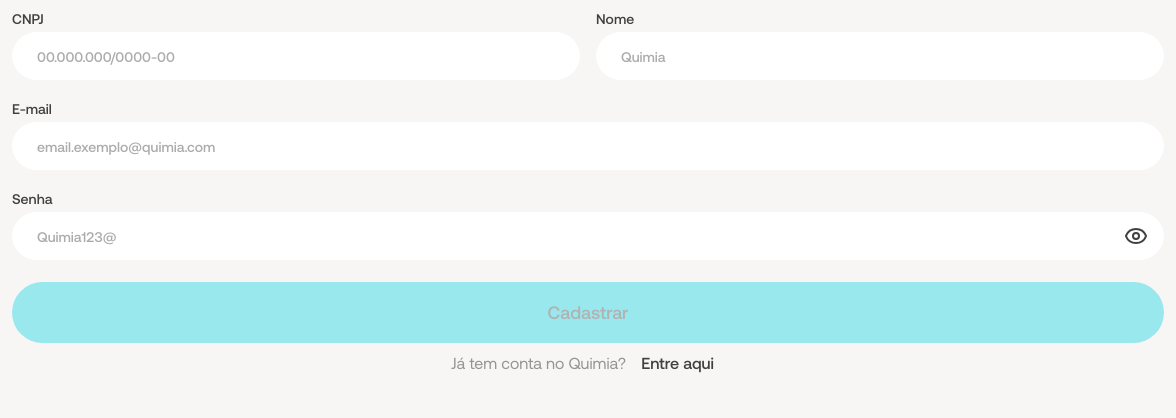
Test: SignupForm › shows a generic failure for unexpected API errors and preserves the draft
Step 1. Type "Omo" into the field labelled "Nome" → (880, 56), box [597,33,1163,79]
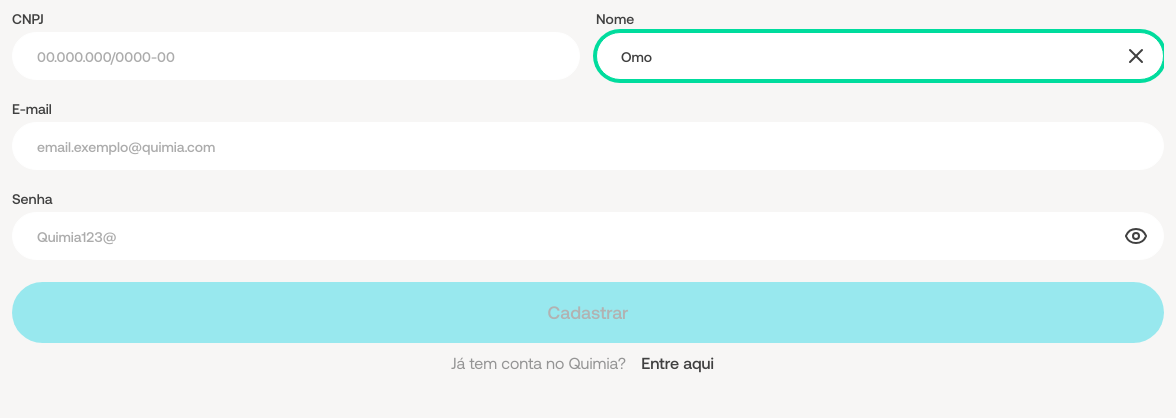
Step 2. Type "11222333000181" into the field labelled "CNPJ" → (296, 56), box [13,33,579,79]
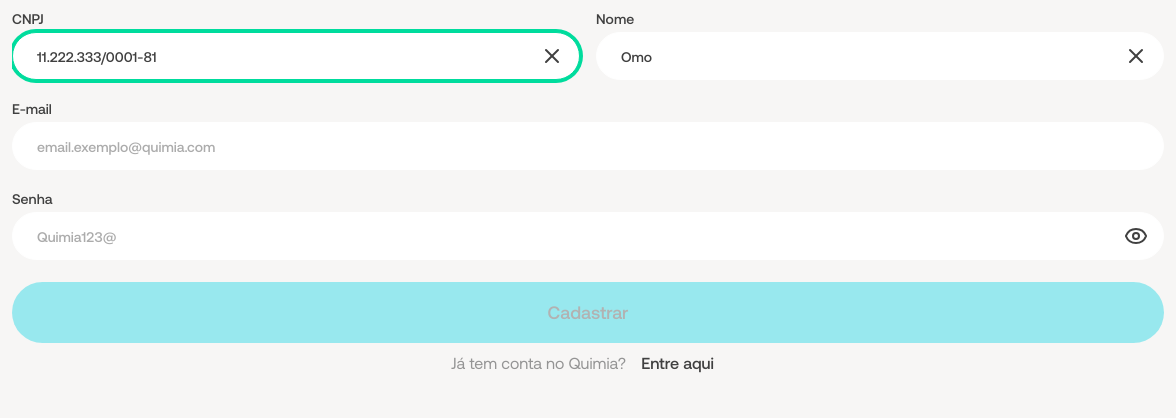
Step 3. Type "omo@example.com" into the field labelled "E-mail" → (588, 146), box [13,123,1163,169]
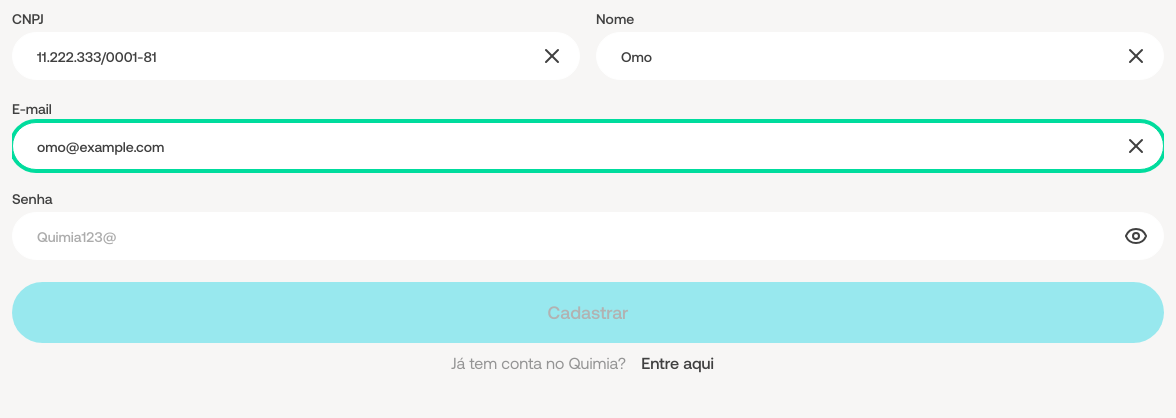
Step 4. Type "senhaOmo123" into the password field labelled "Senha" → (566, 236), box [13,213,1120,259]
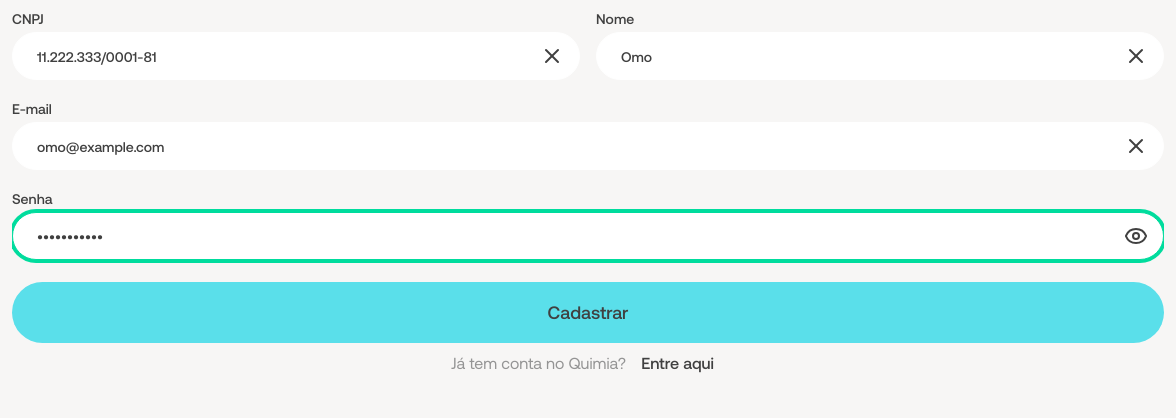
Step 5. Click the button "Cadastrar" → click(588, 312), box [12,282,1164,343]
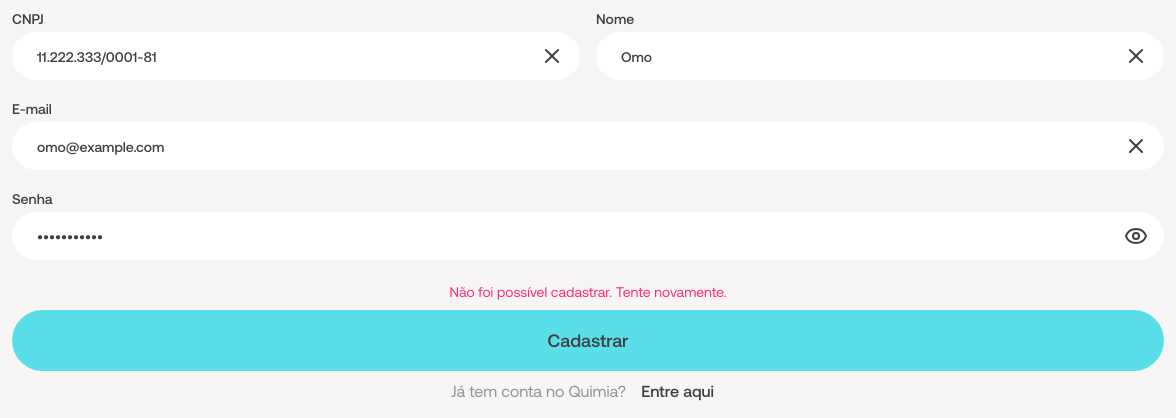
Expected: the button "Cadastrar" is enabled, [12,310,1164,371]
Expected: the message reads "Não foi possível cadastrar. Tente novamente.", [450,283,726,300]
